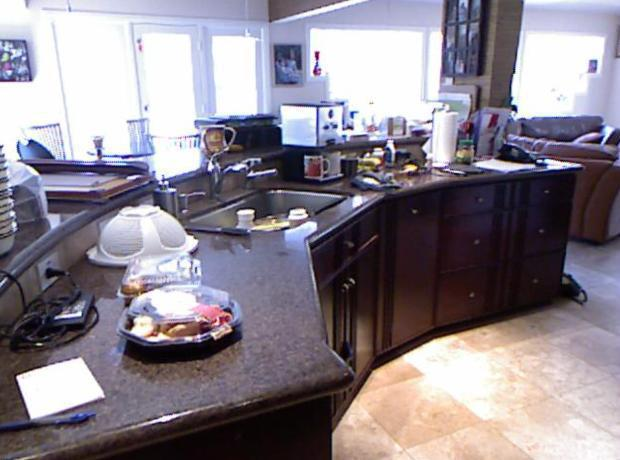Lavaplatos: (165, 143, 366, 255)
